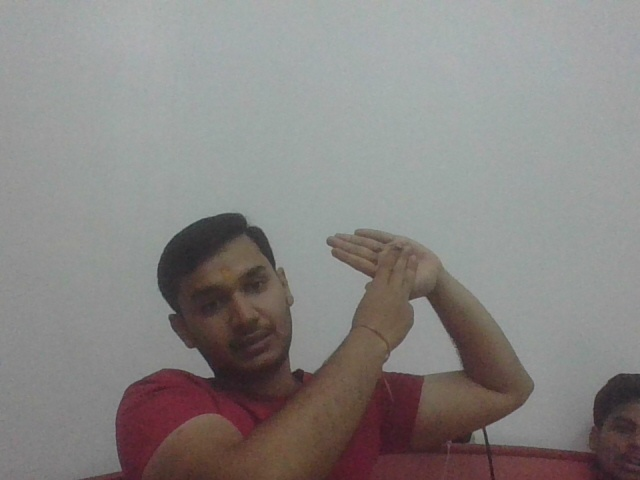M: (328, 226, 440, 317)
